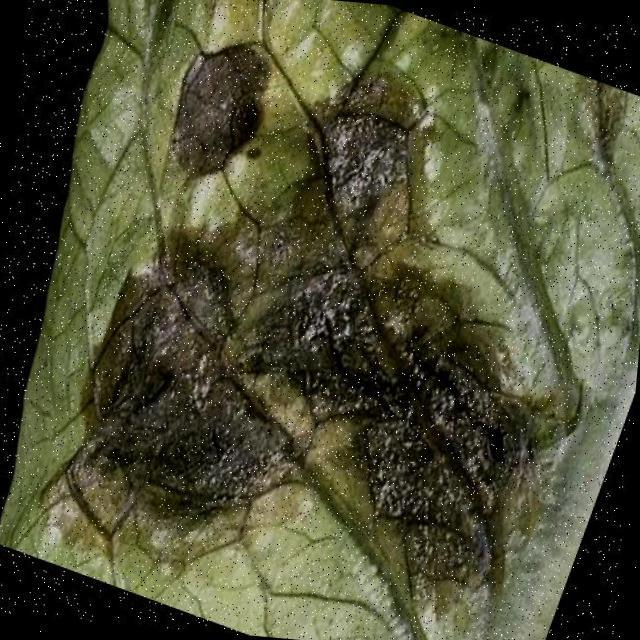Downy_Mildew: (12, 0, 640, 640)
